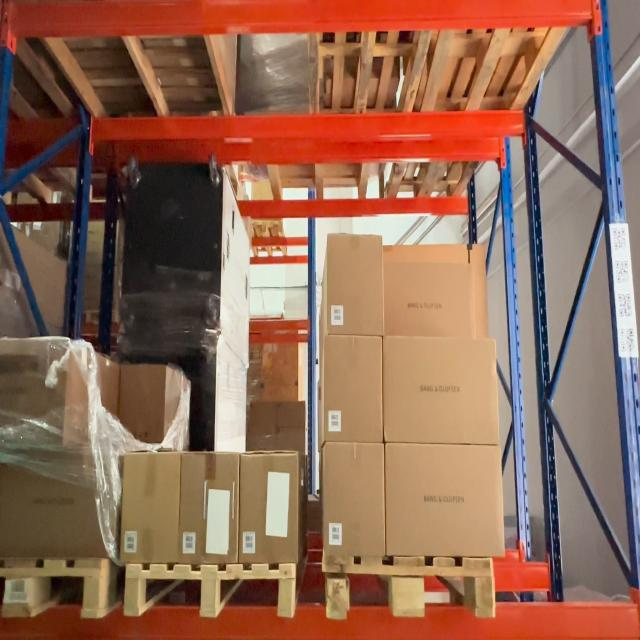box: (385, 443, 505, 558), (383, 337, 501, 448), (0, 452, 111, 558), (324, 444, 385, 558), (180, 453, 240, 566), (384, 264, 474, 339), (239, 452, 299, 564), (121, 454, 181, 562), (325, 337, 383, 443), (328, 234, 384, 337), (118, 366, 166, 448)
